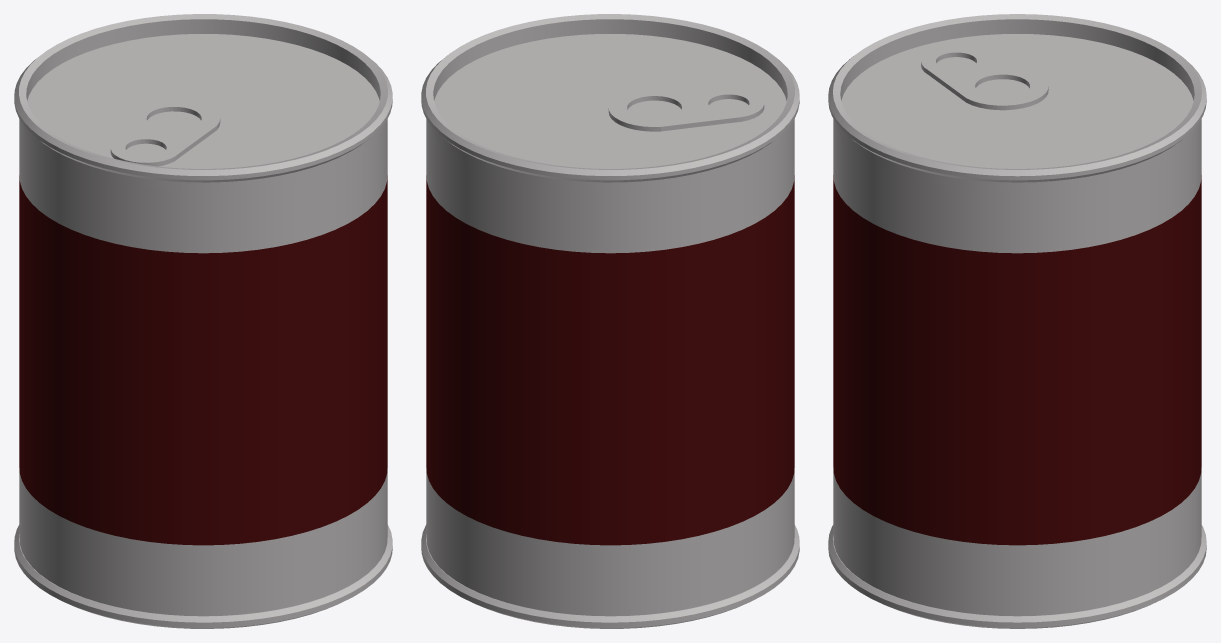
The picture shows the model from 3 angles, left to right: view 1: azimuth 30°, elevation 25°; view 2: azimuth 150°, elevation 25°; view 3: azimuth 270°, elevation 25°; orthographic projection.
Parts seen in each view (by area): view 1: burgundy_band, body, lid, bottom_roll, tab; view 2: burgundy_band, body, lid, bottom_roll, tab; view 3: burgundy_band, body, lid, bottom_roll, tab.
Part boxes in pixels (<box>): burgundy_band: <box>19,175,387,545</box>; body: <box>19,34,387,616</box>; lid: <box>14,14,392,190</box>; bottom_roll: <box>14,524,392,628</box>; tab: <box>110,99,220,166</box>; burgundy_band: <box>426,175,794,545</box>; body: <box>426,34,794,616</box>; lid: <box>421,14,799,190</box>; bottom_roll: <box>421,524,799,628</box>; tab: <box>608,88,764,131</box>; burgundy_band: <box>833,175,1201,545</box>; body: <box>833,34,1201,616</box>; lid: <box>828,14,1206,190</box>; bottom_roll: <box>828,525,1206,628</box>; tab: <box>921,46,1048,110</box>.
Size of the model in its own units: 0.0822 by 0.11 by 0.0822.
